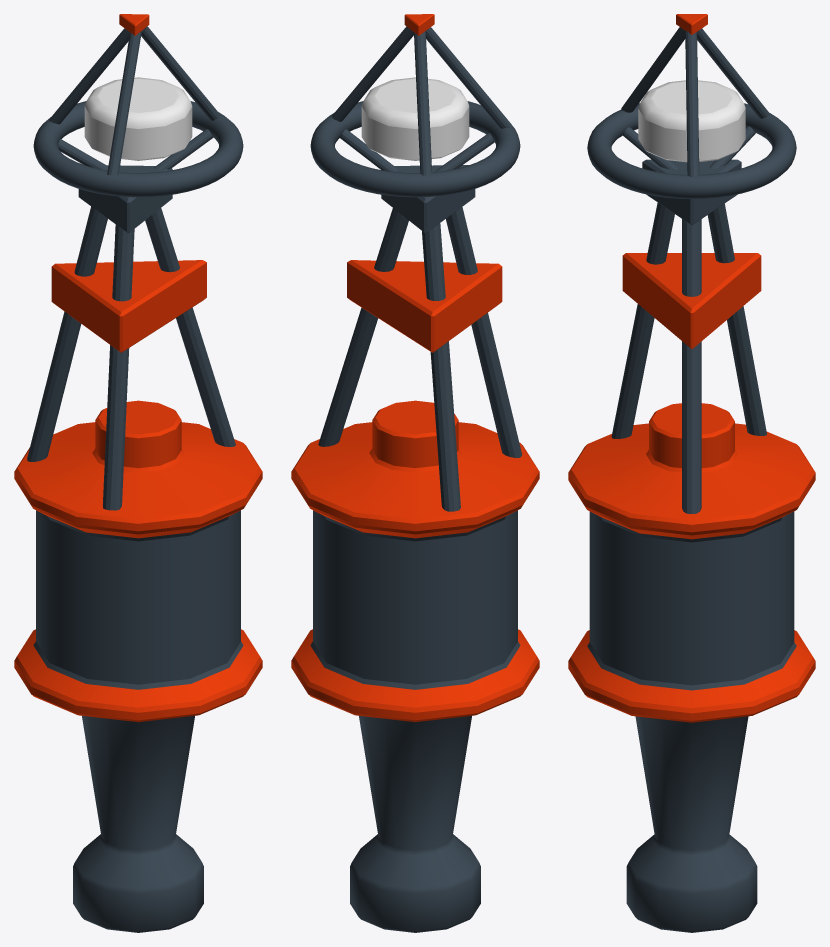
The model's file is mayak.fbx.
The picture shows the model from 3 angles, left to right: view 1: azimuth 30°, elevation 25°; view 2: azimuth 150°, elevation 25°; view 3: azimuth 270°, elevation 25°; orthographic projection.
Visible parts, largest first — view 1: Cylinder.083, Cylinder.085, Cube.085, Torus, Cylinder.084, Cube.086, Cylinder.086; view 2: Cylinder.083, Cylinder.085, Cube.085, Torus, Cylinder.084, Cube.086, Cylinder.086; view 3: Cylinder.083, Cylinder.085, Cube.085, Torus, Cylinder.084, Cube.086, Cylinder.086.
Part boxes in pixels (x1,y1,x2,y2): Cylinder.083: (14,77,262,932); Cylinder.085: (27,206,235,510); Cube.085: (51,260,206,352); Torus: (33,101,243,197); Cylinder.084: (49,26,220,175); Cube.086: (78,165,172,233); Cylinder.086: (58,129,213,170); Cylinder.083: (291,77,539,932); Cylinder.085: (318,207,521,511); Cube.085: (347,260,502,352); Torus: (310,101,520,197); Cylinder.084: (331,26,511,175); Cube.086: (381,165,475,233); Cylinder.086: (340,129,494,171); Cylinder.083: (568,80,815,932); Cylinder.085: (611,202,766,513); Cube.085: (622,253,761,348); Torus: (587,103,796,199); Cylinder.084: (621,27,770,176); Cube.086: (642,159,741,225); Cylinder.086: (623,126,755,169).
Size of the model in its own units: 200 by 803 by 200.
